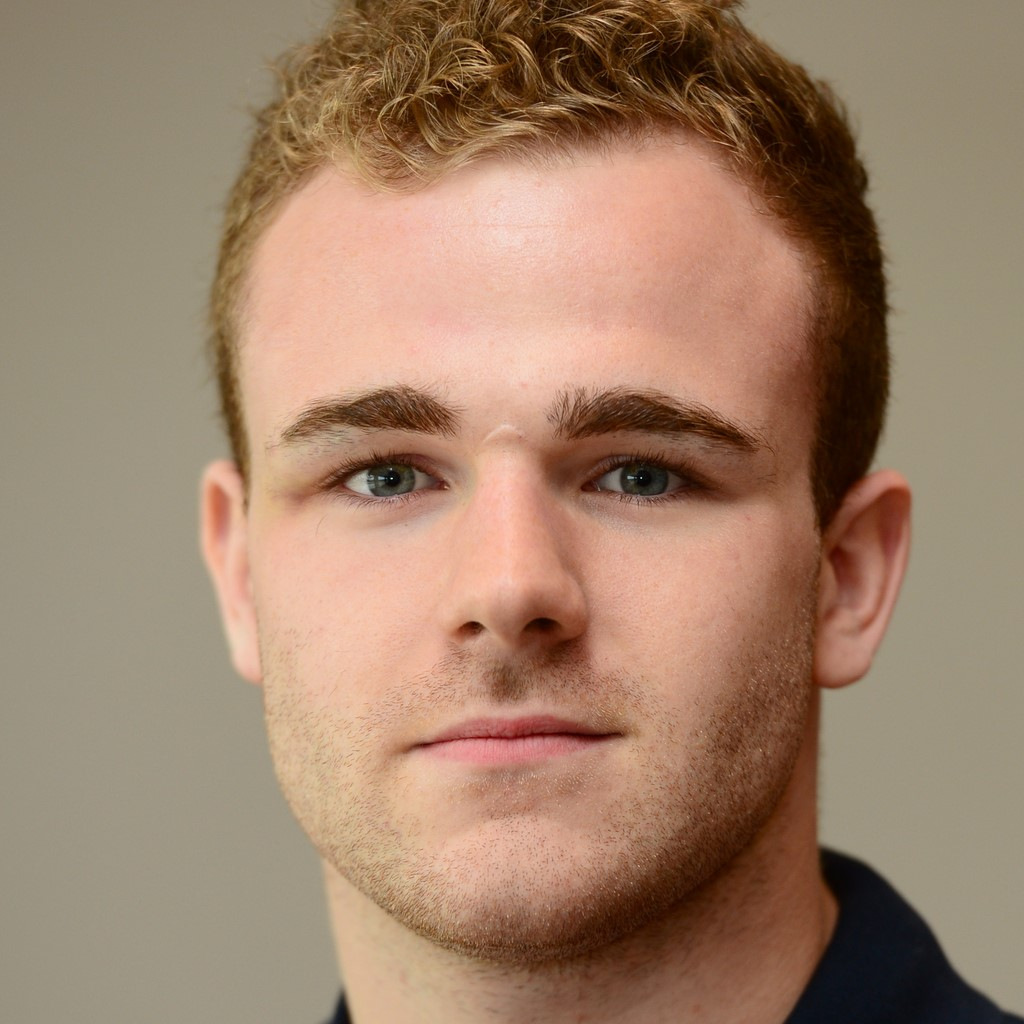sin_mascara: (193, 108, 882, 952)
